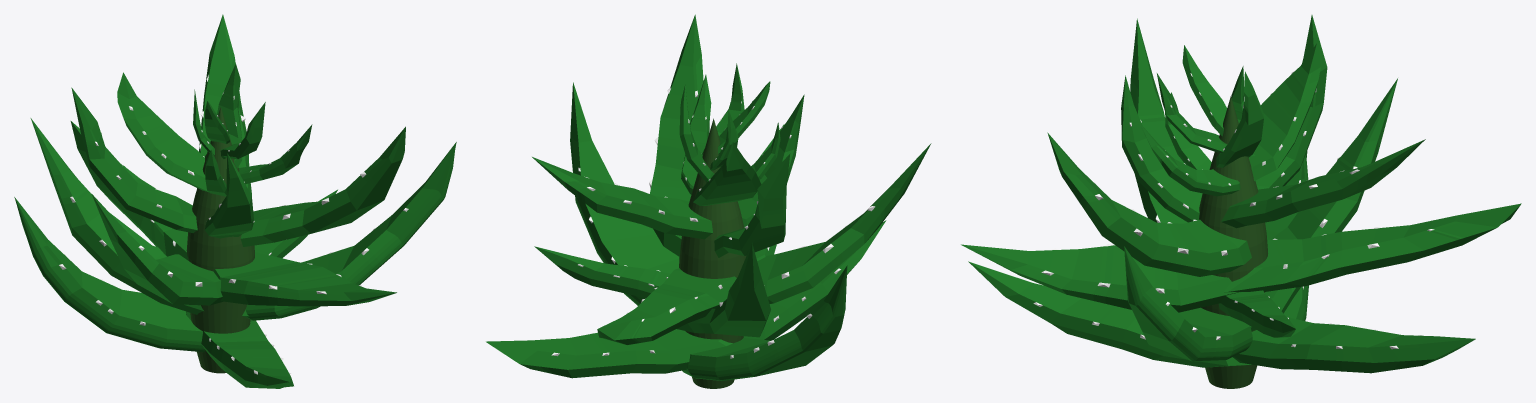
File: Plant.fbx
The picture shows the model from 3 angles, left to right: view 1: azimuth 30°, elevation 25°; view 2: azimuth 150°, elevation 25°; view 3: azimuth 270°, elevation 25°; orthographic projection. The views are drawn at different scales.
Visible parts, largest first — view 1: Savanna.026_0; view 2: Savanna.026_0; view 3: Savanna.026_0.
Boxes of the visible parts, x1,y1,x2,y2 form: Savanna.026_0: (14, 14, 456, 388); Savanna.026_0: (486, 14, 931, 388); Savanna.026_0: (961, 15, 1521, 388).
Bounding box in the file's own units: 233 × 180 × 287.
